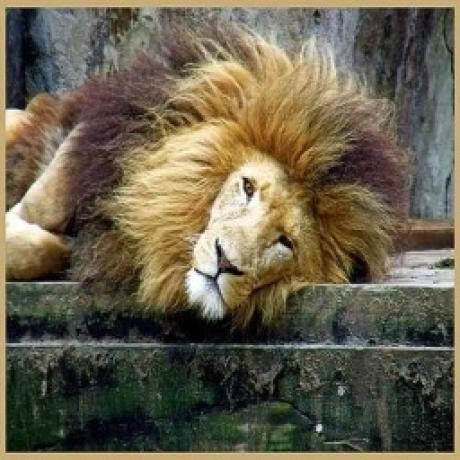Lion: (7, 22, 421, 330)
